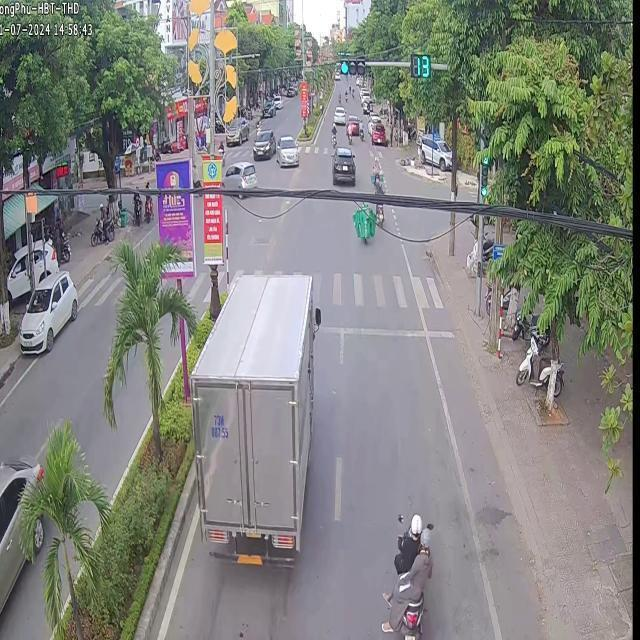car: (189, 274, 319, 564), (0, 454, 42, 608), (17, 269, 77, 354), (222, 160, 256, 187), (330, 145, 354, 182), (250, 127, 274, 157), (277, 134, 297, 165), (33, 516, 42, 550)
green_light: (409, 54, 429, 79), (340, 58, 365, 75), (480, 151, 487, 200)
motobike: (398, 594, 422, 638)
stop_line: (319, 325, 452, 336)
